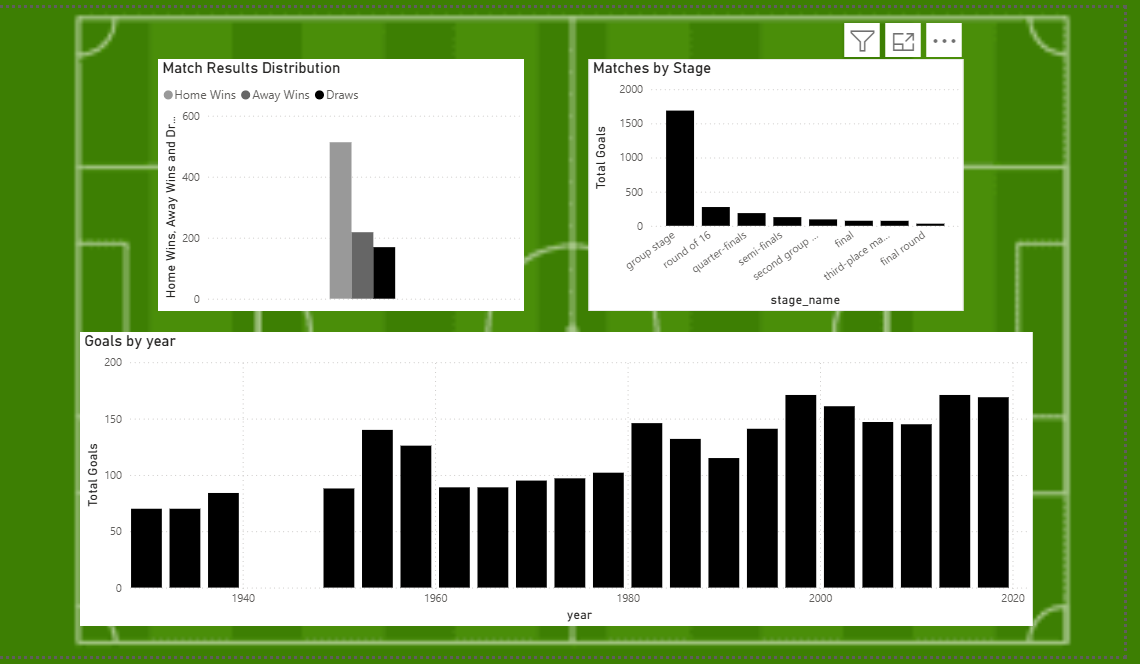

What the dashboard file says about the page in this screenshot:
{"tool":"powerbi","page":{"name":"Match Analysis","canvas":[1280,720],"ordinal":2},"visuals":[{"type":"clusteredColumnChart","title":"Matches by Stage","fields":{"Category":["matches.stage_name"],"Y":["DAX_Measures.Total Goals"]},"box":[685,56.7,416.7,280],"z":0},{"type":"clusteredColumnChart","title":"Match Results Distribution","fields":{"Y":["Unique Champions.Home Wins","Unique Champions.Away Wins","Unique Champions.Draws"]},"box":[206.7,56.7,406.7,280],"z":1000},{"type":"clusteredColumnChart","title":"Goals by year","fields":{"Category":["tournaments.year"],"Y":["DAX_Measures.Total Goals"]},"box":[120,360,1058.3,326.7],"z":2000}]}

Visuals, with their boxes on the page's 1280x720 design canvas (x1, y1, x2, y2). These are canvas units, not pixel positions in the 1140x664 screenshot, which may show the page scaled, cropped or inside an application window:
"Matches by Stage" clusteredColumnChart: region(685, 57, 1102, 337)
"Match Results Distribution" clusteredColumnChart: region(207, 57, 613, 337)
"Goals by year" clusteredColumnChart: region(120, 360, 1178, 687)
